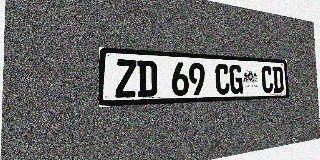6: (171, 62, 189, 96)
9: (189, 62, 205, 96)
C: (215, 64, 230, 95), (261, 66, 273, 93)
D: (137, 60, 157, 97), (272, 66, 284, 93)
G: (229, 64, 243, 94)
Z: (115, 59, 137, 98)
